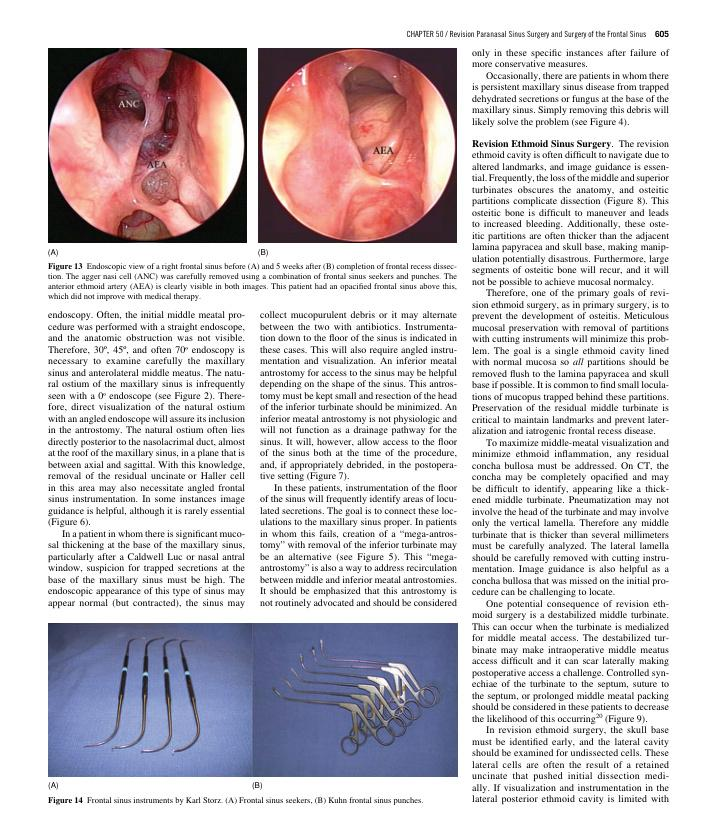caption: (46, 262, 458, 302), (47, 796, 424, 806), (257, 247, 270, 258), (251, 781, 263, 791), (47, 248, 59, 258), (48, 781, 59, 790)
header: (406, 29, 647, 41)
image: (48, 48, 247, 244), (258, 48, 457, 243), (252, 623, 458, 778), (48, 622, 252, 777)
sub-section-heading: (471, 139, 613, 150)
text: (471, 138, 670, 806), (46, 308, 247, 610), (259, 310, 458, 610), (470, 46, 670, 129)
